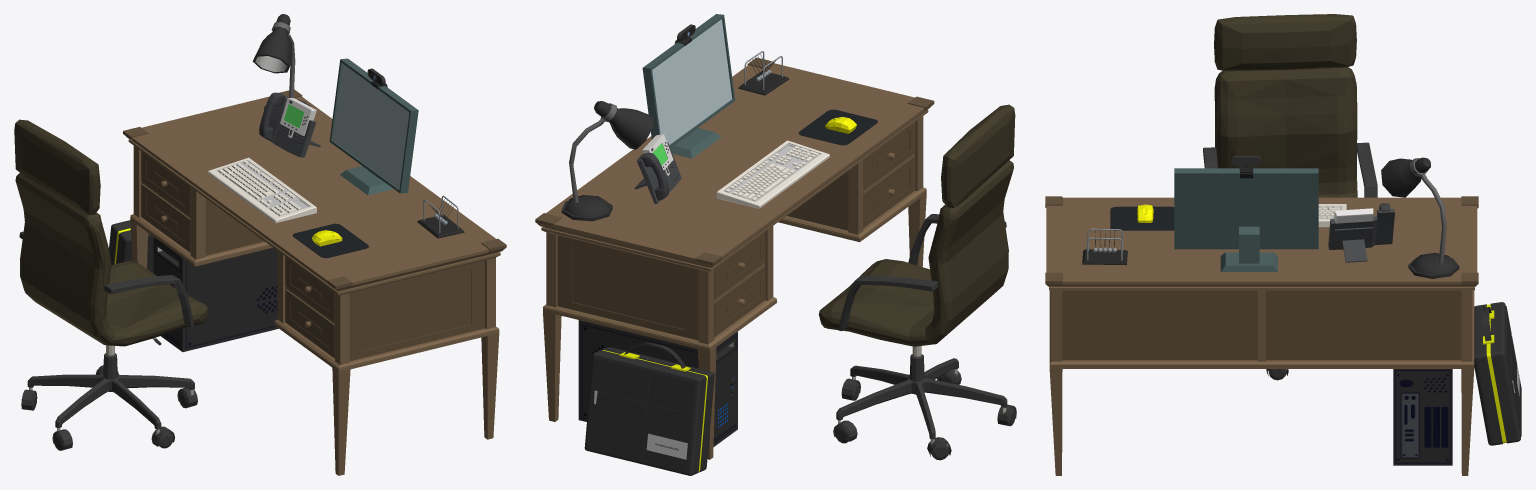
Rendered from Desk.gltf.
The picture shows the model from 3 angles, left to right: view 1: azimuth 30°, elevation 25°; view 2: azimuth 150°, elevation 25°; view 3: azimuth 270°, elevation 25°; orthographic projection. The views are drawn at different scales.
Visible parts, largest first — view 1: Desk-V86Go2rlnq, Chair, System_unit.001, Computer Screen, Keyboard-aPwr5p1dluw, Office Phone.002, Light Desk, Mousepad.002, Laptop bag, Cube.002; view 2: Desk-V86Go2rlnq, Chair, Laptop bag, Computer Screen, System_unit.001, Keyboard-aPwr5p1dluw, Light Desk, Office Phone.002, Mousepad.002, Cube.002; view 3: Desk-V86Go2rlnq, Chair, Computer Screen, System_unit.001, Laptop bag, Light Desk, Office Phone.002, Mousepad.002, Cube.002, Cylinder.
Boxes of the visible parts, x1,y1,x2,y2 form: Desk-V86Go2rlnq: [123, 89, 506, 475]; Chair: [14, 119, 207, 450]; System_unit.001: [153, 237, 278, 351]; Computer Screen: [329, 58, 418, 195]; Keyboard-aPwr5p1dluw: [208, 157, 316, 223]; Office Phone.002: [259, 92, 320, 157]; Light Desk: [252, 14, 310, 109]; Mousepad.002: [292, 223, 368, 258]; Laptop bag: [109, 220, 153, 273]; Cube.002: [417, 195, 464, 238]; Desk-V86Go2rlnq: [535, 57, 934, 459]; Chair: [818, 104, 1016, 460]; Laptop bag: [584, 342, 714, 475]; Computer Screen: [642, 14, 735, 158]; System_unit.001: [578, 320, 737, 446]; Keyboard-aPwr5p1dluw: [716, 140, 829, 208]; Light Desk: [561, 101, 653, 221]; Office Phone.002: [634, 134, 681, 203]; Mousepad.002: [798, 109, 877, 145]; Cube.002: [738, 51, 789, 95]; Desk-V86Go2rlnq: [1045, 196, 1478, 475]; Chair: [1203, 14, 1377, 380]; Computer Screen: [1174, 168, 1318, 271]; System_unit.001: [1393, 369, 1452, 465]; Laptop bag: [1474, 302, 1521, 445]; Light Desk: [1381, 157, 1459, 278]; Office Phone.002: [1328, 203, 1394, 262]; Mousepad.002: [1110, 206, 1174, 230]; Cube.002: [1082, 228, 1127, 265]; Cylinder: [1231, 155, 1261, 178].
Size of the model in its own units: 1.72 by 1.43 by 2.
30 materials, 3 textured.
